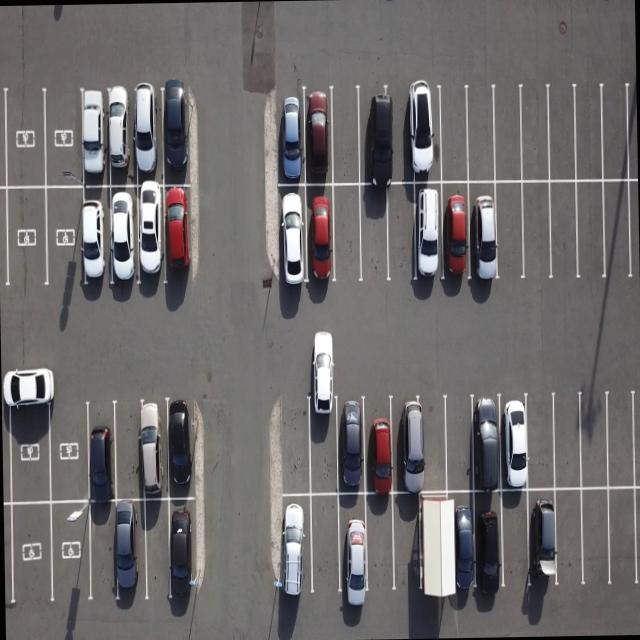car: (48, 498, 92, 602), (124, 398, 168, 501), (436, 493, 476, 602), (355, 82, 397, 185), (470, 488, 510, 596), (276, 493, 314, 603), (466, 396, 506, 494), (335, 489, 371, 597), (168, 498, 204, 606), (303, 184, 340, 288), (465, 178, 501, 284), (162, 184, 200, 284), (114, 500, 150, 604), (389, 496, 426, 597), (360, 396, 398, 494), (527, 485, 563, 587), (494, 394, 532, 490), (75, 185, 109, 292), (406, 88, 443, 186), (392, 396, 429, 494), (83, 398, 117, 502), (436, 180, 470, 284), (133, 184, 167, 288), (333, 394, 369, 492), (165, 398, 200, 498), (108, 184, 141, 290), (278, 181, 310, 290), (412, 182, 446, 284), (308, 398, 343, 496), (304, 87, 338, 187), (130, 86, 162, 185), (162, 88, 193, 186), (79, 89, 109, 188), (278, 88, 308, 187), (108, 89, 136, 186)
free: (6, 502, 51, 609), (48, 393, 92, 502), (8, 393, 50, 504), (45, 184, 86, 293), (5, 186, 45, 294), (2, 84, 42, 188), (308, 494, 346, 602), (44, 86, 84, 188), (114, 401, 154, 503), (496, 486, 534, 591), (549, 488, 587, 590), (574, 488, 612, 590), (413, 493, 449, 599), (361, 494, 397, 598), (328, 84, 364, 185), (382, 182, 418, 282), (574, 393, 610, 492), (438, 396, 475, 492), (524, 392, 560, 490), (604, 178, 637, 284), (549, 391, 585, 488), (492, 180, 526, 282), (606, 486, 640, 588), (572, 178, 606, 280), (84, 501, 118, 603), (546, 181, 580, 282), (521, 180, 555, 280), (606, 392, 640, 490), (600, 82, 634, 180), (141, 500, 173, 604), (356, 185, 390, 282), (434, 88, 468, 184), (332, 185, 364, 287), (520, 87, 554, 183), (571, 84, 605, 180), (465, 87, 498, 182), (418, 399, 450, 496), (546, 86, 578, 182), (490, 87, 522, 183), (387, 87, 415, 187)
